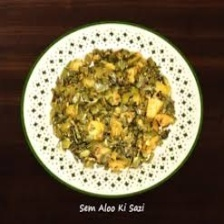sabzi: (48, 49, 176, 175)
